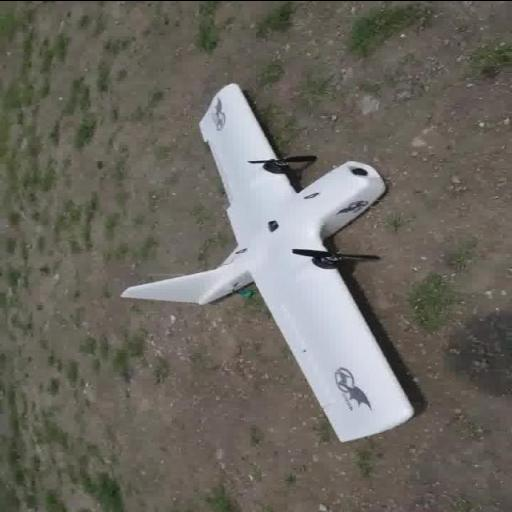uav: (118, 80, 424, 442)
